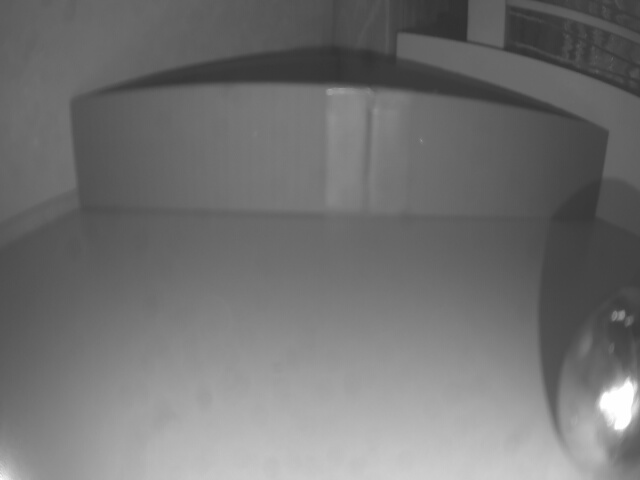Live: (555, 290, 640, 480)
Point: (75, 86, 612, 221), (344, 86, 347, 118)
